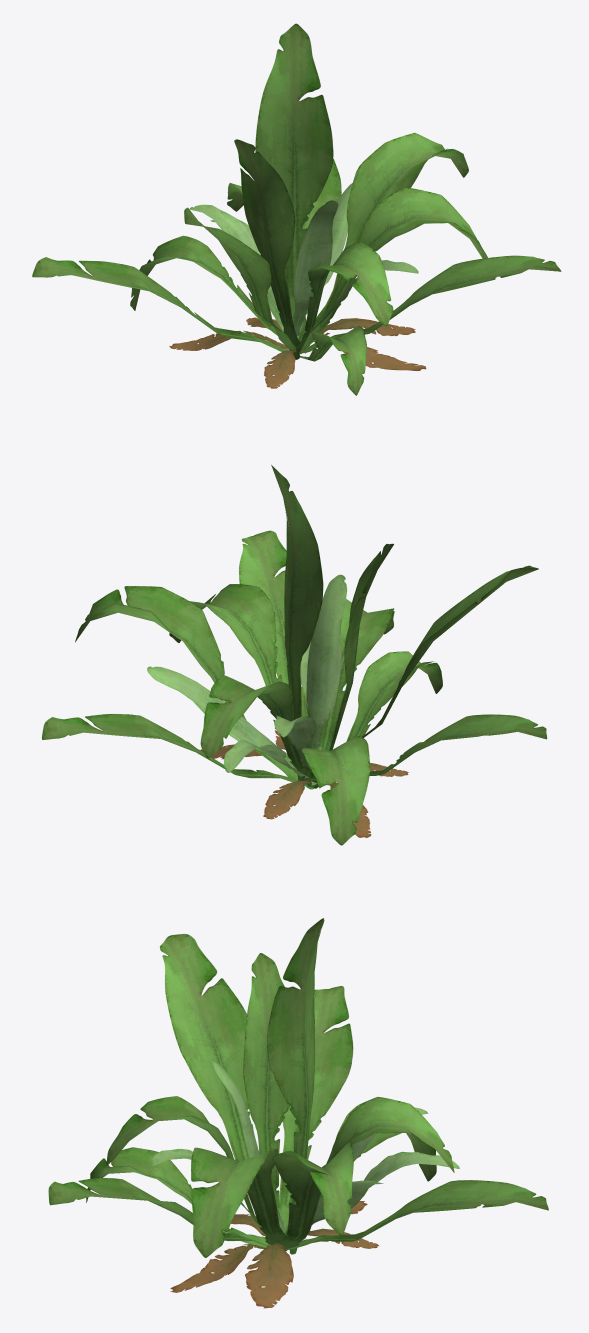
File: krzak.glb
The picture shows the model from 3 angles, top to bottom: view 1: azimuth 30°, elevation 25°; view 2: azimuth 150°, elevation 25°; view 3: azimuth 270°, elevation 25°; orthographic projection. The views are drawn at different scales.
Parts seen in each view (by area): view 1: normal.005, normal.006, normal.001, normal.008, normal.007, normal.003, normal.012, small.002, normal.004, normal.009, normal.002, small.005 (+7 smaller); view 2: normal.005, normal.001, normal.009, small.002, normal.011, normal.008, normal.003, normal.010, normal.002, normal.012, normal.007, normal.004 (+5 smaller); view 3: normal.004, normal.005, normal.008, normal.006, normal.012, normal.001, normal.010, normal.011, normal.007, normal.002, normal.003, dry.004 (+5 smaller).
Boxes of the visible parts, <box> form: normal.005: <box>255,23,333,332</box>; normal.006: <box>234,139,300,359</box>; normal.001: <box>312,133,468,341</box>; normal.008: <box>299,187,487,350</box>; normal.007: <box>294,241,393,352</box>; normal.003: <box>299,255,561,354</box>; normal.012: <box>32,257,286,351</box>; small.002: <box>285,200,338,346</box>; normal.004: <box>184,207,295,351</box>; normal.009: <box>130,235,277,335</box>; normal.002: <box>295,326,366,395</box>; small.005: <box>189,204,289,350</box>; normal.005: <box>271,465,323,789</box>; normal.001: <box>75,586,313,789</box>; normal.009: <box>301,736,370,845</box>; small.002: <box>306,574,347,787</box>; normal.011: <box>200,675,318,788</box>; normal.008: <box>169,584,310,789</box>; normal.003: <box>239,530,307,716</box>; normal.010: <box>42,714,314,788</box>; normal.002: <box>346,651,442,741</box>; normal.012: <box>316,714,547,787</box>; normal.007: <box>318,599,394,750</box>; normal.004: <box>362,565,538,737</box>; normal.004: <box>160,934,283,1245</box>; normal.005: <box>267,918,324,1254</box>; normal.008: <box>191,1147,287,1257</box>; normal.006: <box>243,953,290,1245</box>; normal.012: <box>278,986,353,1227</box>; normal.001: <box>271,1140,353,1249</box>; normal.010: <box>284,1180,548,1249</box>; normal.011: <box>326,1097,454,1172</box>; normal.007: <box>106,1096,266,1235</box>; normal.002: <box>86,1147,267,1249</box>; normal.003: <box>48,1178,268,1246</box>; dry.004: <box>245,1244,293,1308</box>.
Bounding box in the file's own units: 2.9 × 2.02 × 2.78.
1 material, 1 textured.
